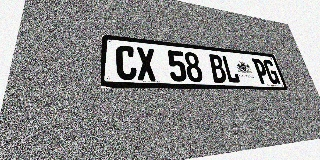5: (167, 50, 188, 82)
8: (183, 52, 204, 82)
B: (208, 54, 228, 83)
C: (116, 45, 137, 80)
G: (262, 59, 281, 84)
L: (221, 55, 241, 83)
P: (252, 58, 270, 84)
X: (136, 47, 157, 81)
